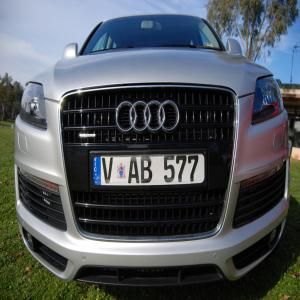Vehicle-registration-plate: (93, 155, 205, 186)
